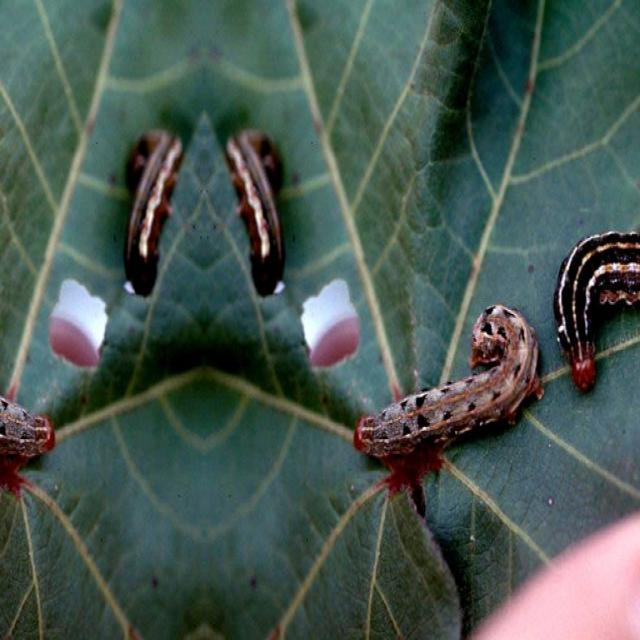Armyworm: (363, 286, 552, 523), (99, 63, 197, 318), (531, 197, 640, 416), (219, 110, 303, 304), (1, 363, 64, 485)
